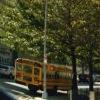Bus: (12, 52, 72, 94)
